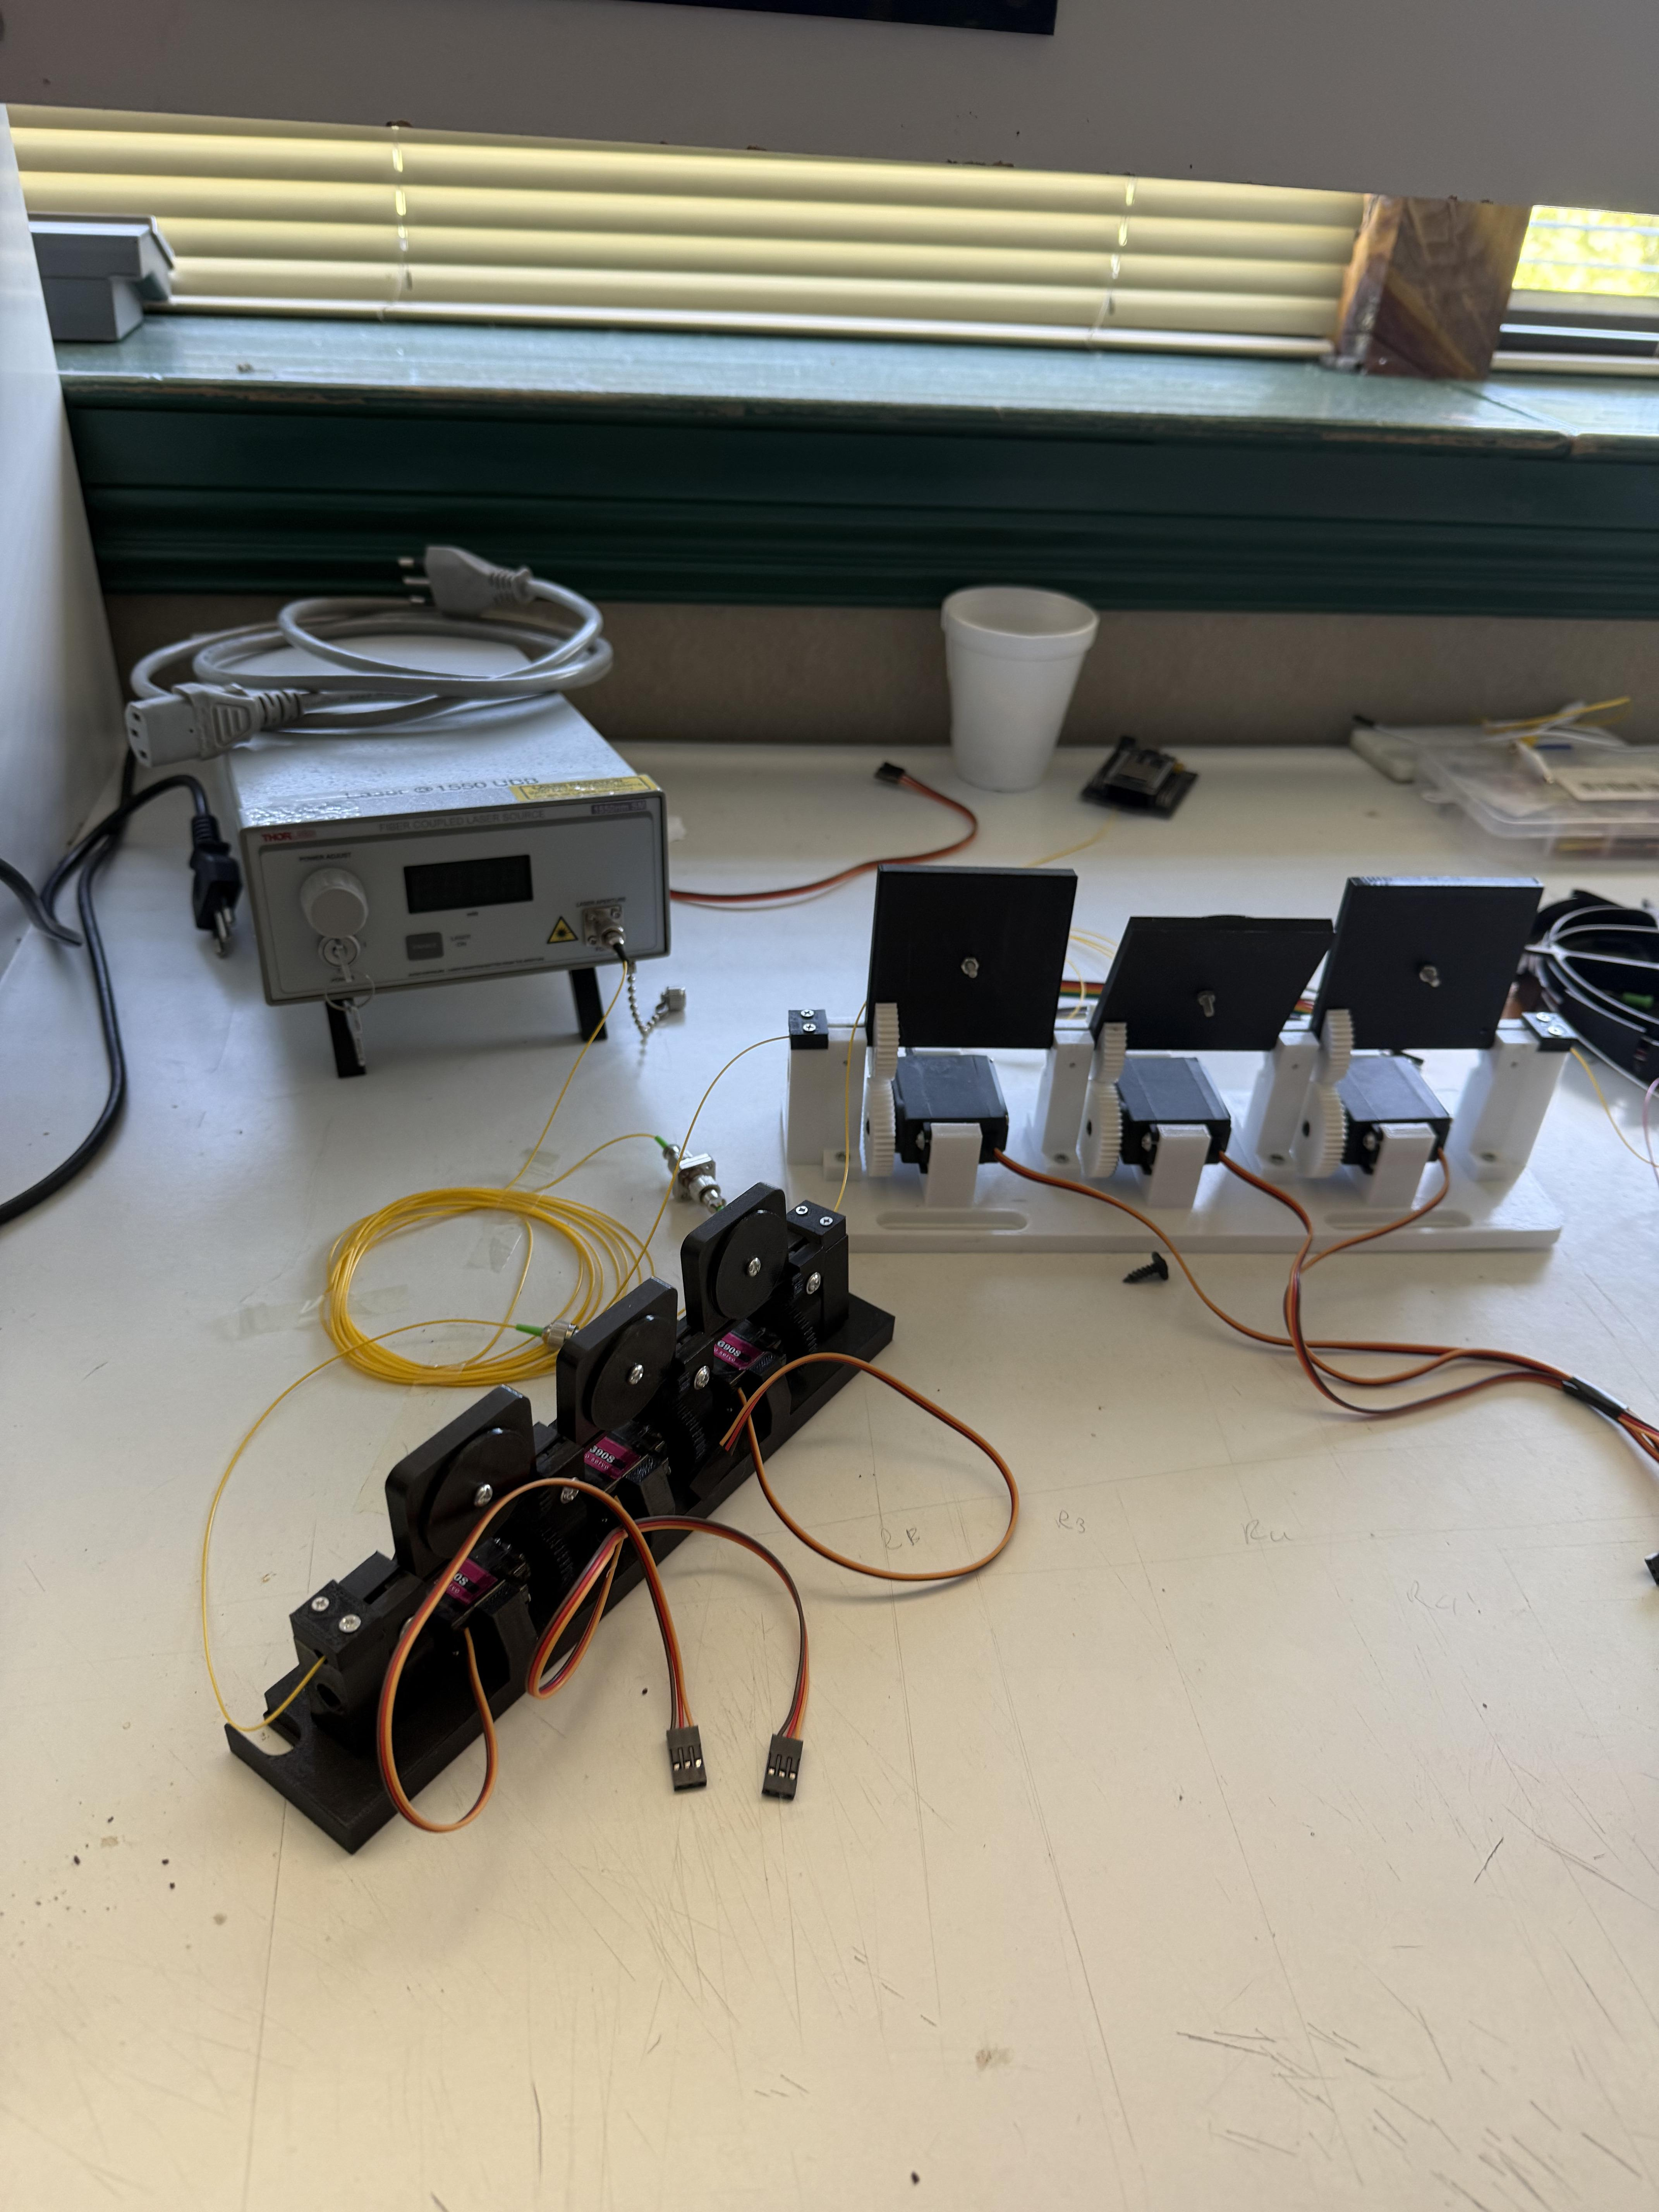laser: (120, 577, 685, 1143)
paddle_polarization_controller: (174, 1115, 976, 1909), (748, 826, 1645, 1270)
